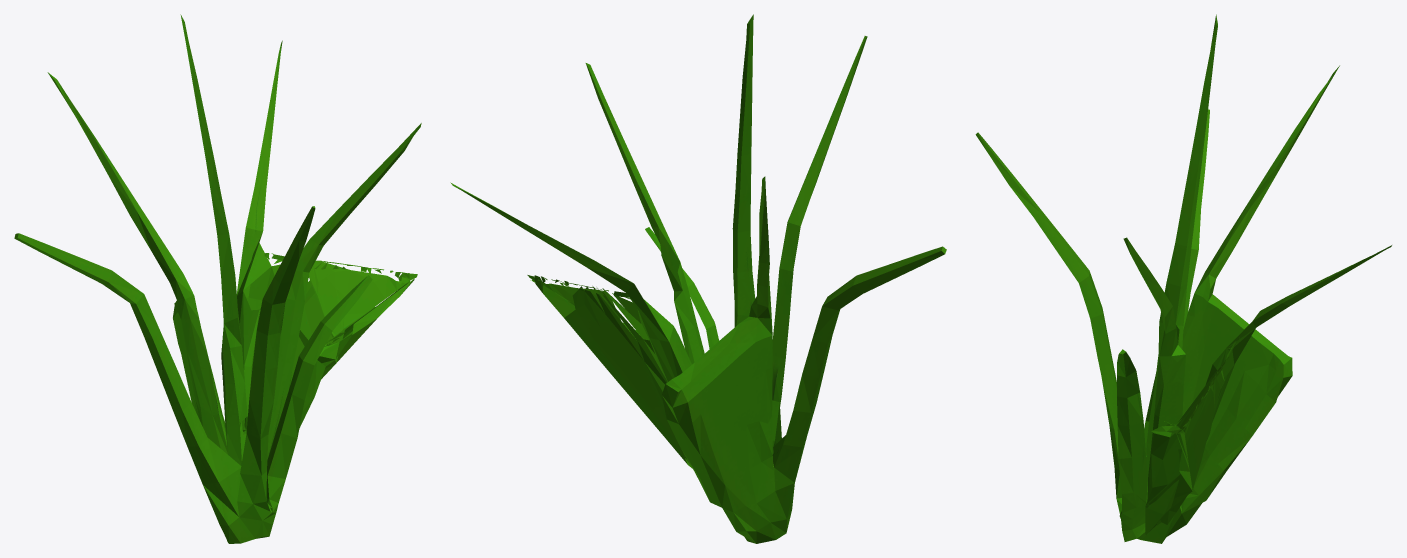
The model's file is grassb.obj.
The picture shows the model from 3 angles, left to right: view 1: azimuth 30°, elevation 25°; view 2: azimuth 150°, elevation 25°; view 3: azimuth 270°, elevation 25°; orthographic projection. The views are drawn at different scales.
Visible parts, largest first — view 1: tripo_node_085e2d29-77f2-4068-9be3-701eba9b15ed; view 2: tripo_node_085e2d29-77f2-4068-9be3-701eba9b15ed; view 3: tripo_node_085e2d29-77f2-4068-9be3-701eba9b15ed.
Boxes of the visible parts, box(x1,y1,x2,y2) form: tripo_node_085e2d29-77f2-4068-9be3-701eba9b15ed: box(14, 14, 421, 543); tripo_node_085e2d29-77f2-4068-9be3-701eba9b15ed: box(450, 14, 946, 543); tripo_node_085e2d29-77f2-4068-9be3-701eba9b15ed: box(975, 14, 1391, 543).
Size of the model in its own units: 0.7808 by 0.9644 by 0.7093.
